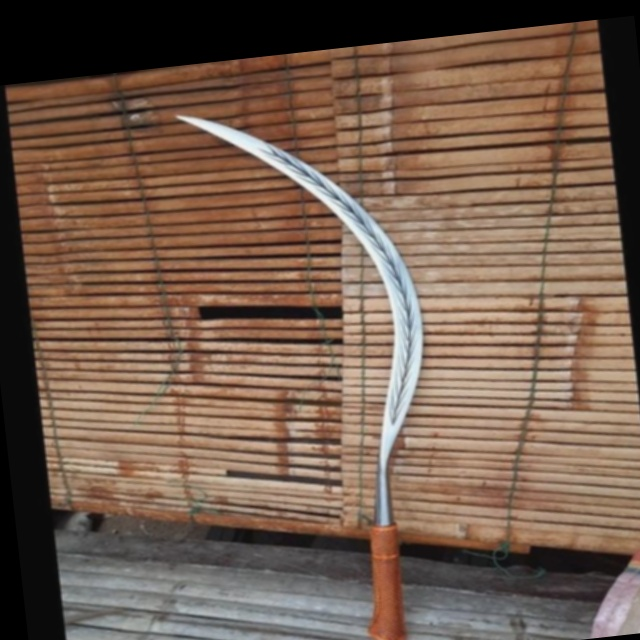Sharp-Object: (166, 42, 466, 640)
